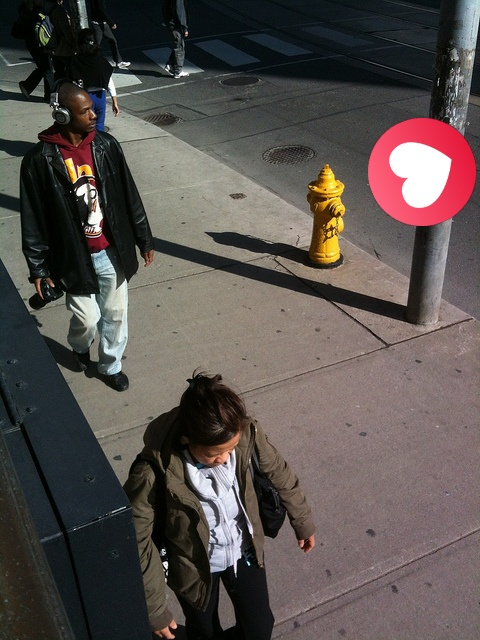love: (368, 118, 476, 226)
